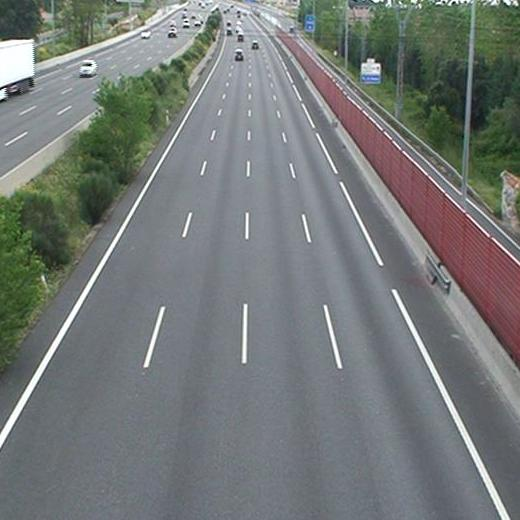car: (235, 50, 243, 60), (251, 40, 258, 49)
